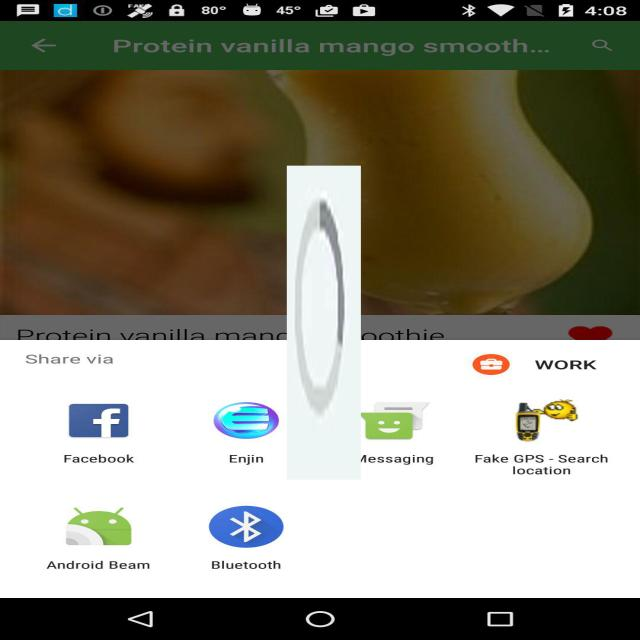misdirection: (287, 166, 361, 480)
